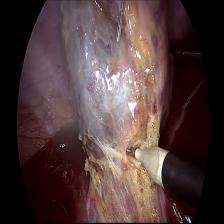Hook: (123, 140, 171, 192)
